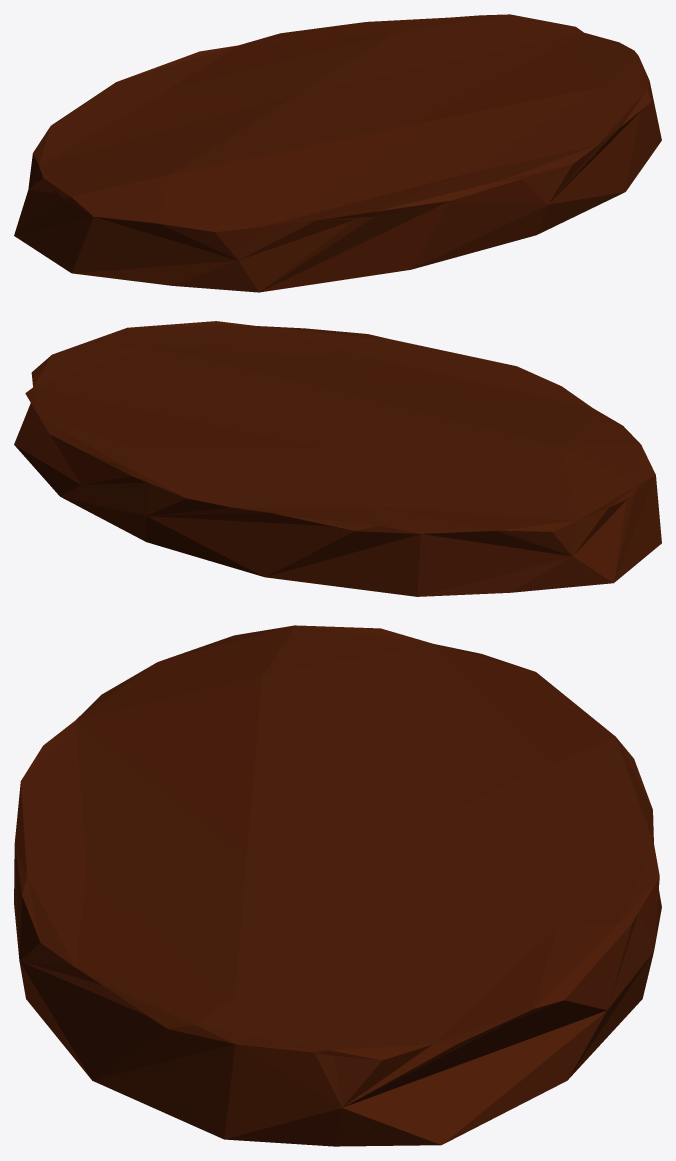
The model's file is ElevatedGround_5.fbx.
The picture shows the model from 3 angles, top to bottom: view 1: azimuth 30°, elevation 25°; view 2: azimuth 150°, elevation 25°; view 3: azimuth 270°, elevation 25°; orthographic projection. The views are drawn at different scales.
Visible parts, largest first — view 1: ElevatedGround_5; view 2: ElevatedGround_5; view 3: ElevatedGround_5.
Part boxes in pixels (box(x1,y1,x2,y2)): ElevatedGround_5: box(14, 14, 661, 292); ElevatedGround_5: box(14, 321, 661, 596); ElevatedGround_5: box(14, 625, 661, 1146).
Bounding box in the file's own units: 2004 × 234 × 1241.
